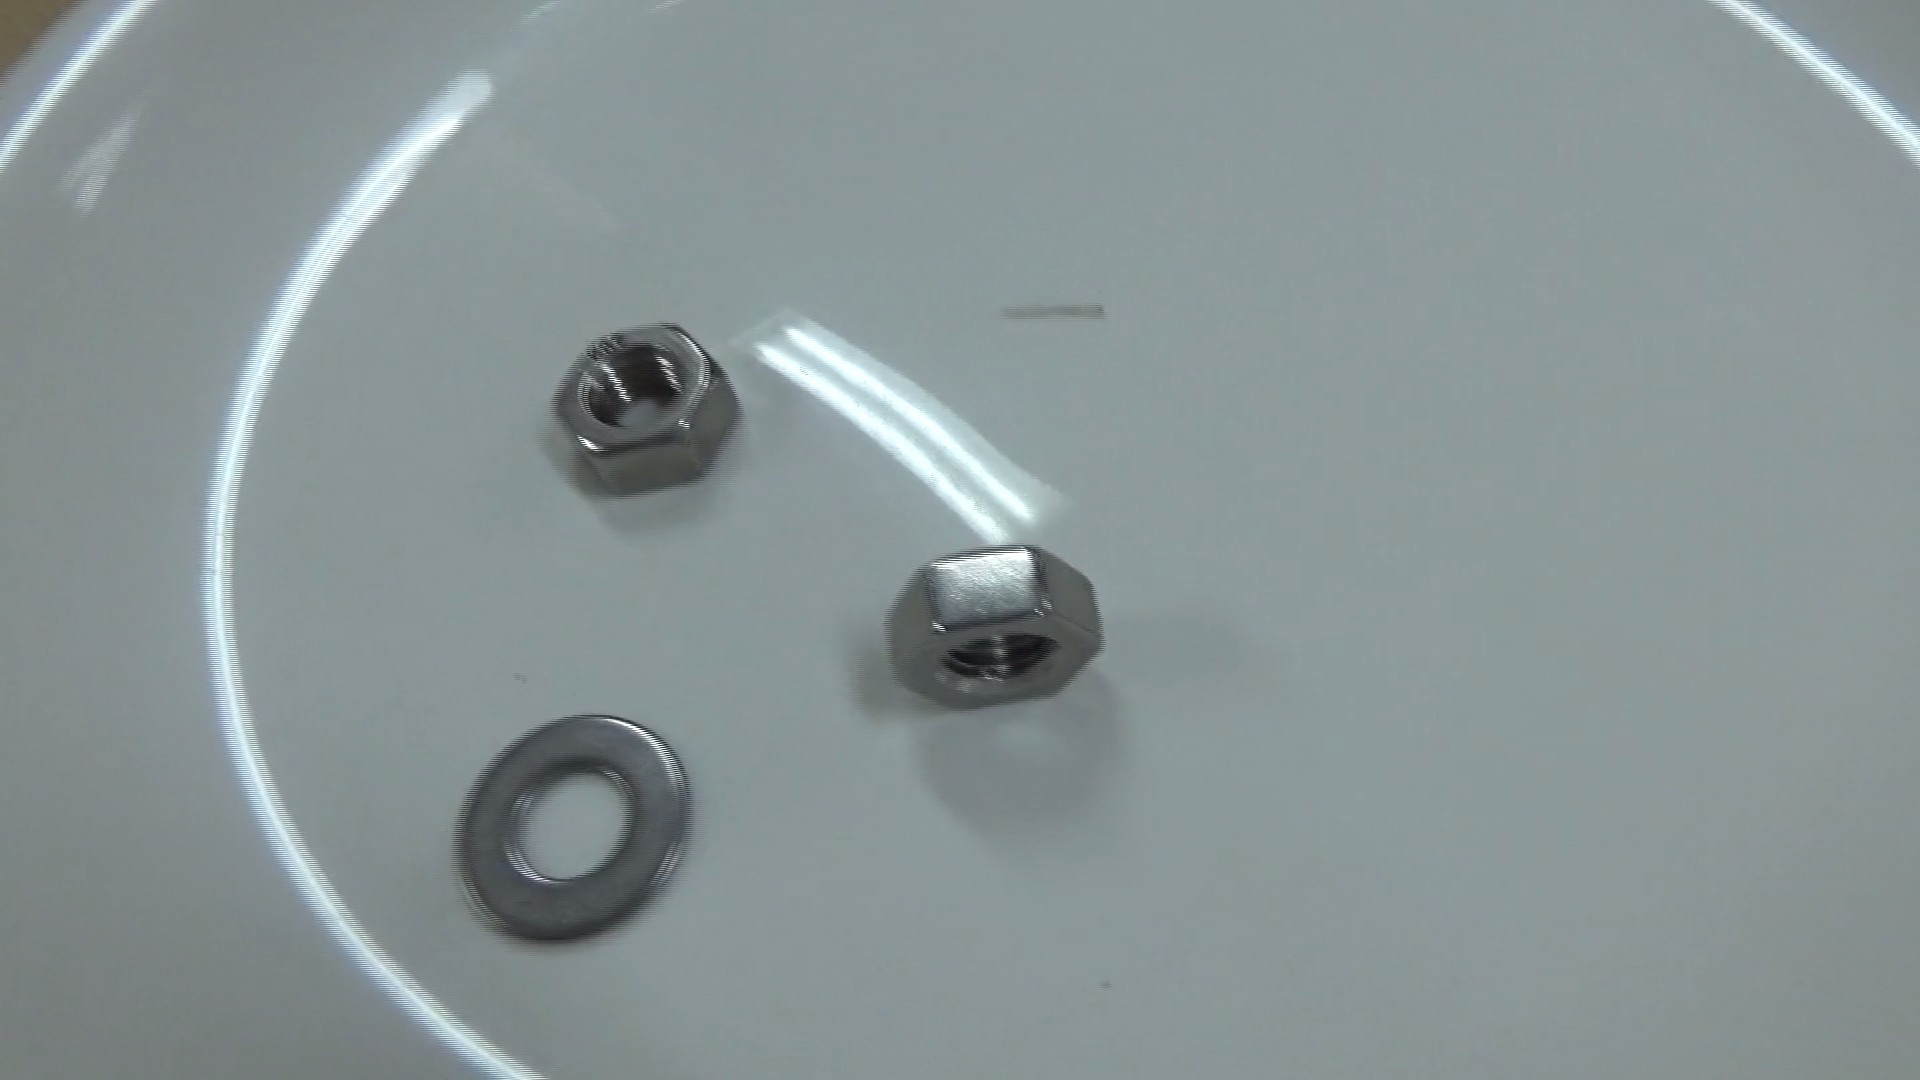nut: (878, 538, 1113, 721), (541, 309, 748, 505)
washer: (442, 699, 703, 949)
